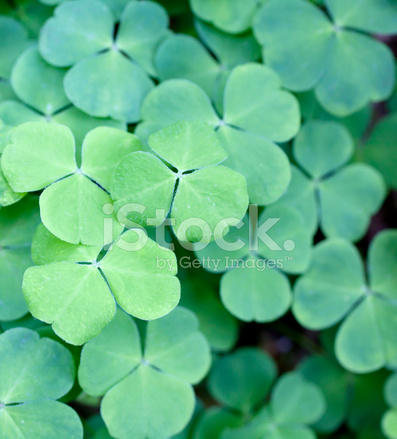oxalis: (15, 9, 397, 427)
